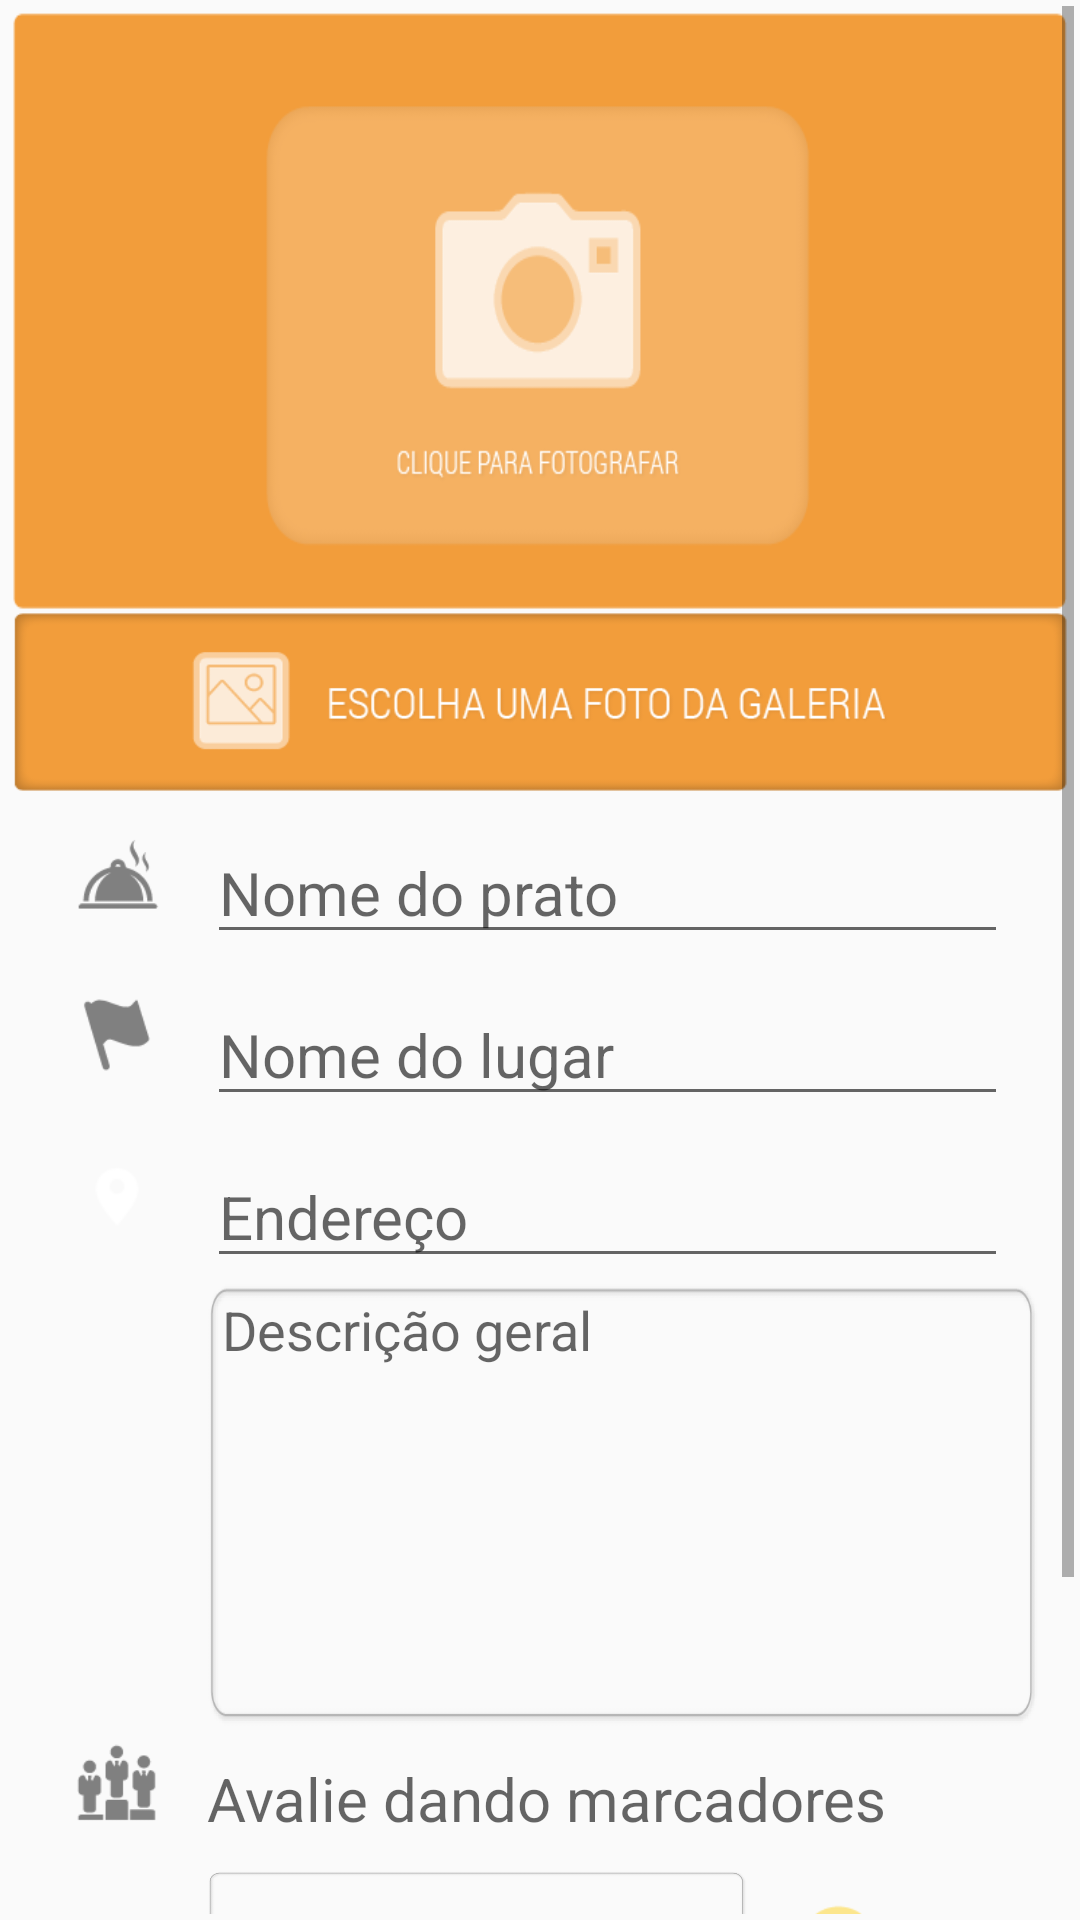

Icon bounding boxes for this 1080 x 1920 phone screenshot, format (x1=x1, y1=y1, x2=x2, y2=y2):
avaliation: (x1=78, y1=1745, x2=156, y2=1820)
place name: (x1=84, y1=999, x2=150, y2=1071)
plate name: (x1=78, y1=840, x2=158, y2=909)
